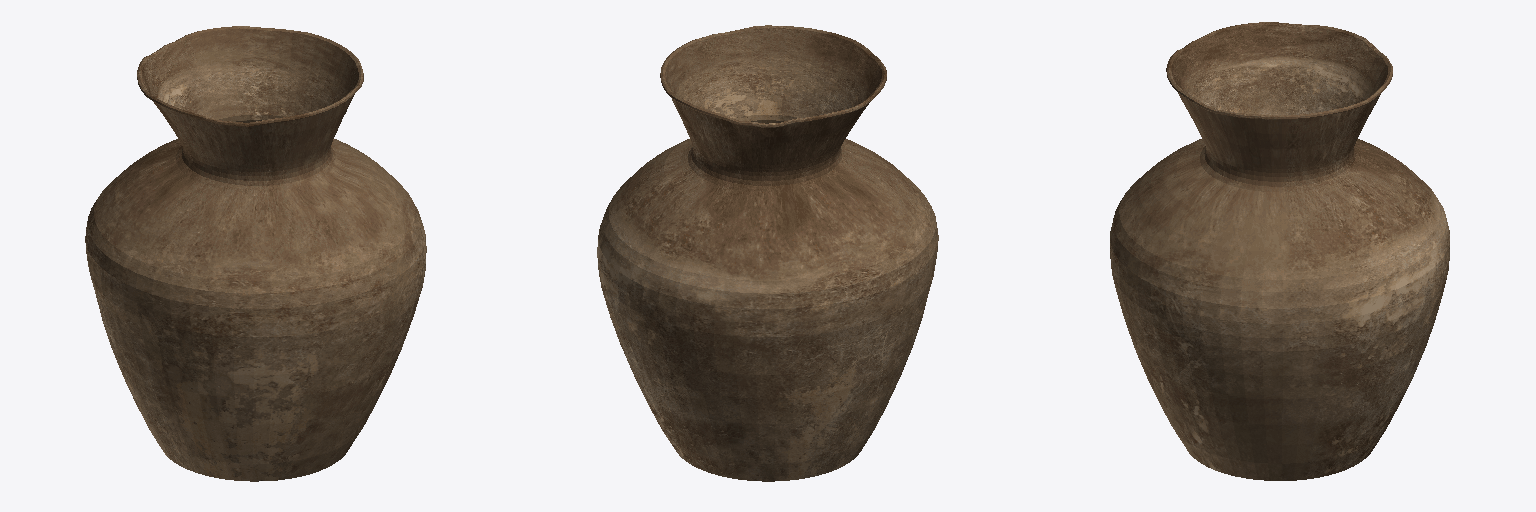
3 renders of one model, left to right at view 1: azimuth 30°, elevation 25°; view 2: azimuth 150°, elevation 25°; view 3: azimuth 270°, elevation 25°, orthographic.
Visible parts, largest first — view 1: polySurface13; view 2: polySurface13; view 3: polySurface13.
Part boxes in pixels (x1,y1,x2,y2): polySurface13: (85, 26, 426, 481); polySurface13: (597, 25, 938, 481); polySurface13: (1110, 22, 1449, 480).
Size of the model in its own units: 14.98 by 17.91 by 14.92.
Materials: 2 (2 with a texture image).